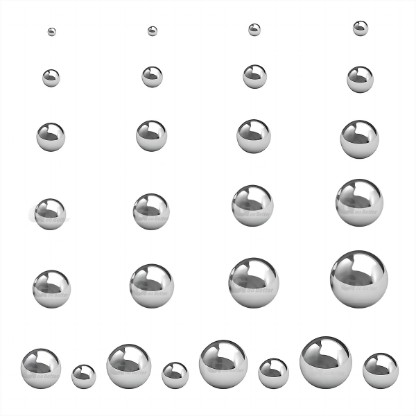ironball: (329, 249, 388, 308), (299, 335, 352, 388), (227, 256, 279, 308), (198, 339, 247, 388), (334, 178, 383, 226), (128, 263, 174, 308), (106, 343, 151, 388), (230, 184, 273, 226), (20, 347, 61, 388), (339, 119, 379, 158), (31, 269, 71, 308), (132, 192, 169, 229), (362, 352, 398, 388), (236, 118, 270, 153), (33, 197, 65, 230), (135, 119, 167, 151), (257, 357, 289, 388), (36, 122, 65, 151), (346, 65, 373, 92), (161, 361, 188, 388), (71, 364, 96, 388), (242, 64, 266, 88), (141, 65, 162, 87), (41, 68, 59, 87), (352, 20, 368, 36), (247, 22, 260, 36), (147, 25, 157, 36), (47, 27, 55, 36)
